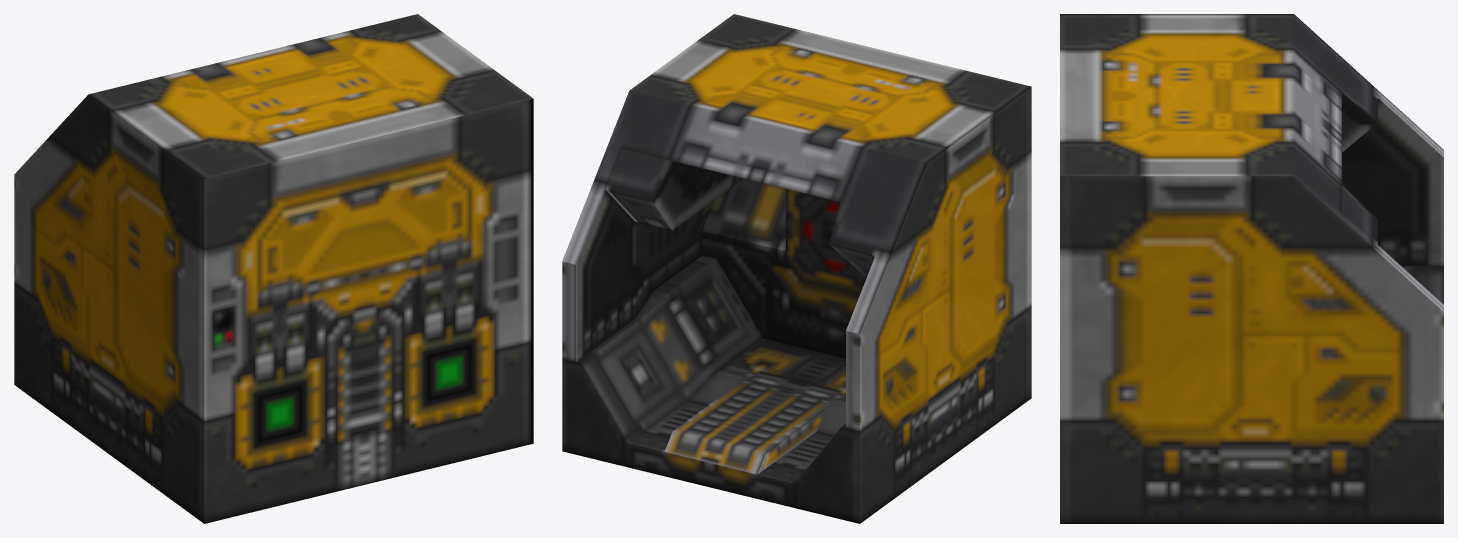
The model's file is astro_miner_base.obj.
3 renders of one model, left to right at view 1: azimuth 30°, elevation 25°; view 2: azimuth 150°, elevation 25°; view 3: azimuth 270°, elevation 25°, orthographic. The views are drawn at different scales.
Visible parts, largest first — view 1: dock; view 2: dock; view 3: dock.
Part boxes in pixels (x1=…): dock: x1=14, y1=14, x2=533, y2=523; dock: x1=562, y1=14, x2=1031, y2=523; dock: x1=1060, y1=14, x2=1443, y2=523.
Bounding box in the file's own units: 40 × 40 × 40.
